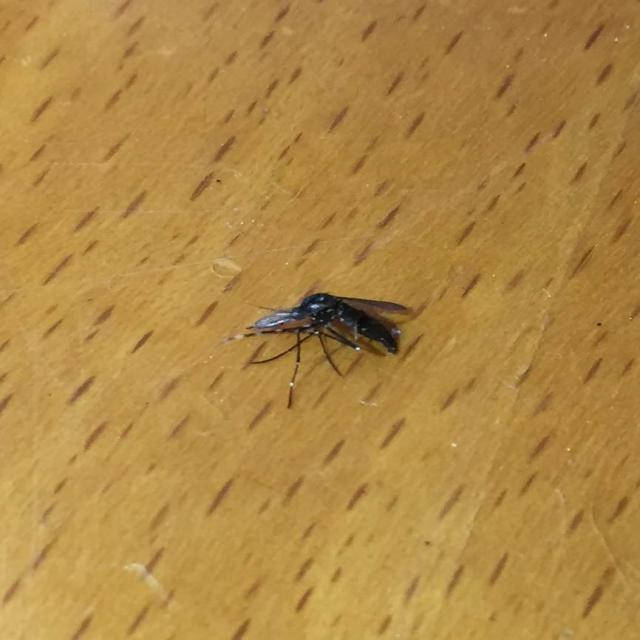albopictus: (220, 285, 417, 413)
